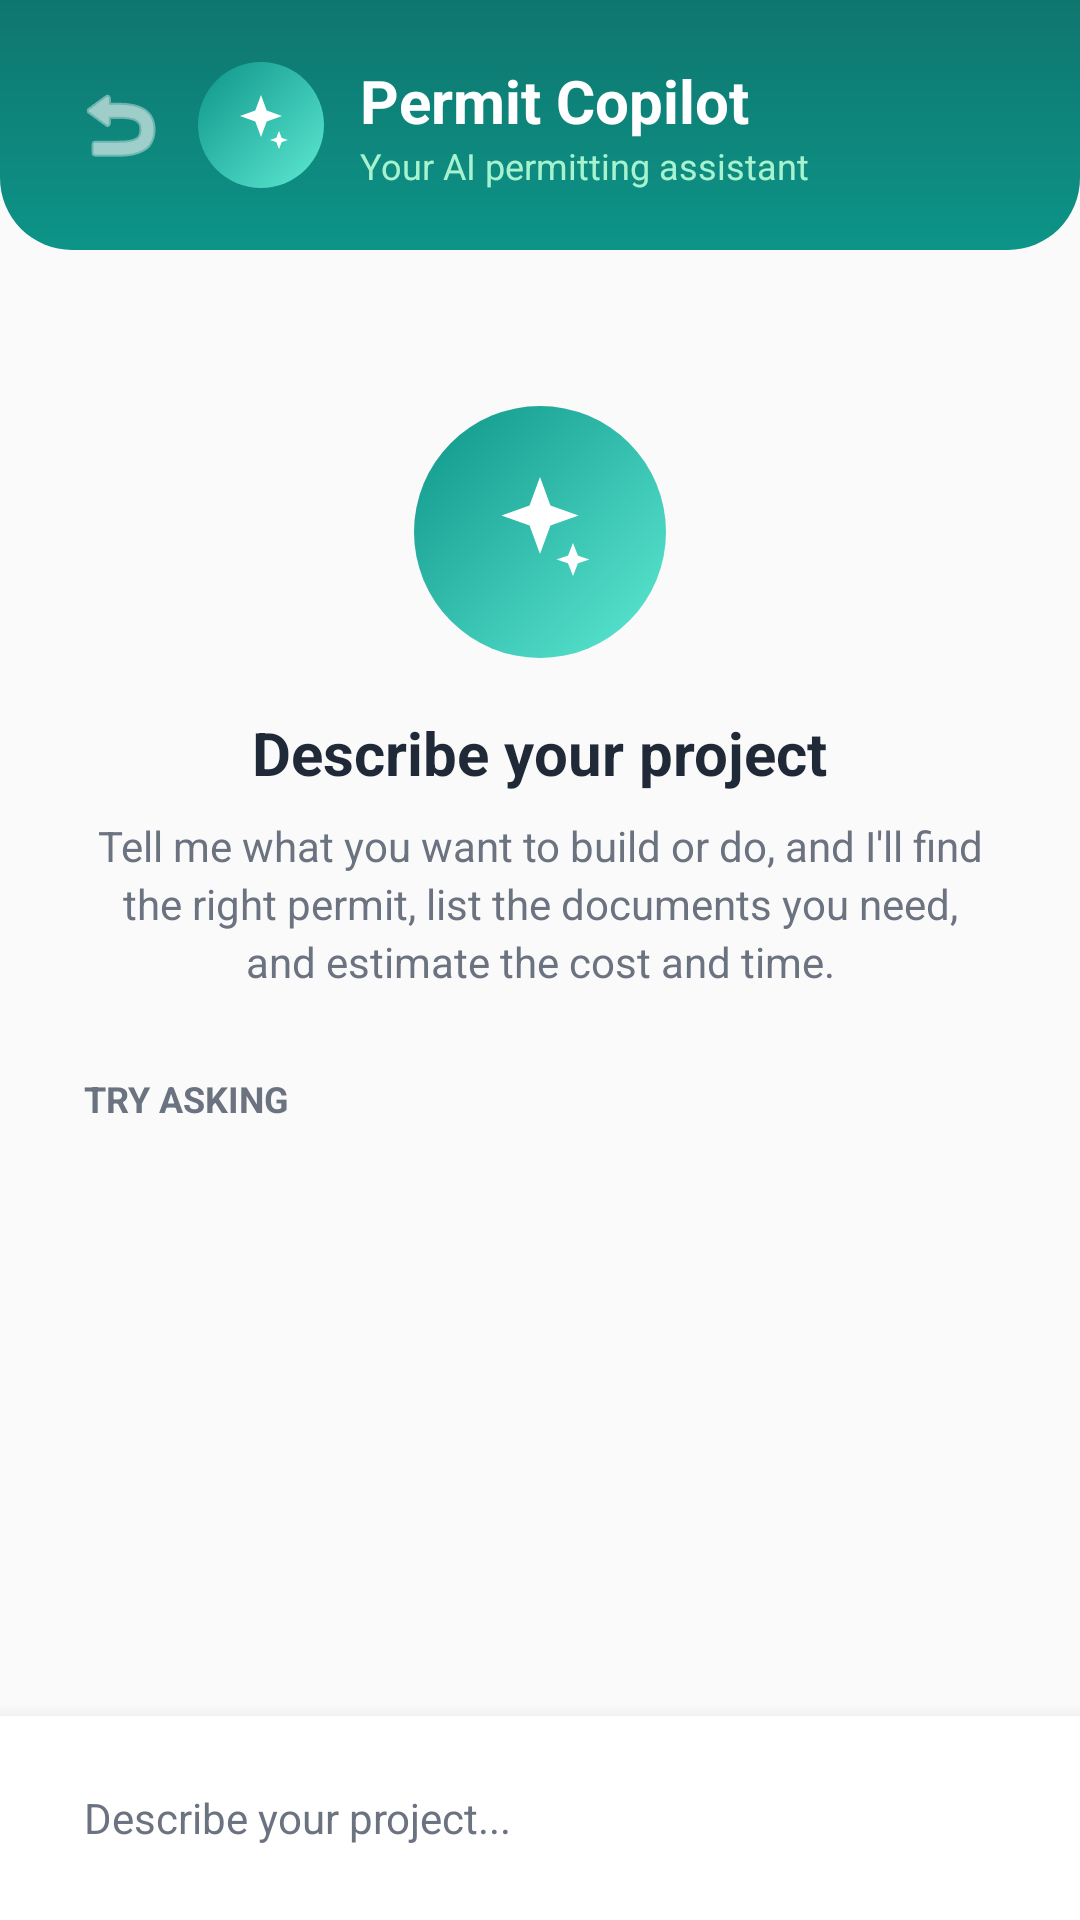

Where icons sit on this 1080 × 1920 app screen, as [left=x1, top=y1, right=x2, bottom=y2]:
copilot spark: [left=225, top=89, right=297, bottom=161], [left=502, top=477, right=606, bottom=598]
revert: [left=87, top=94, right=156, bottom=157]
